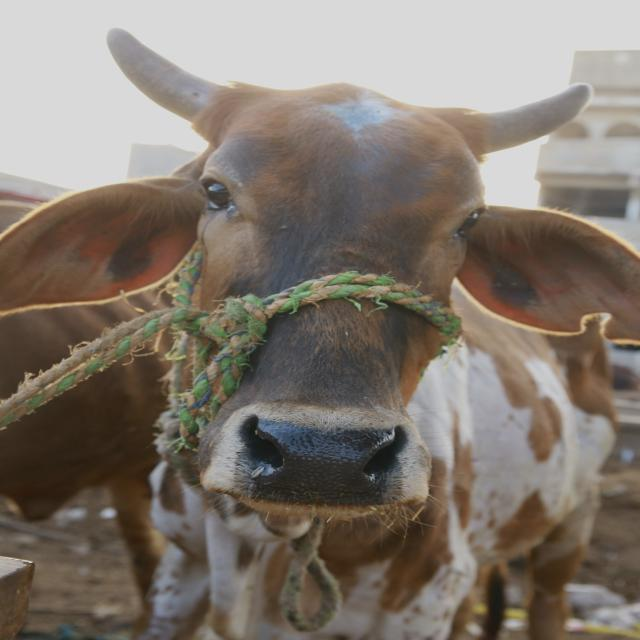muzzles: (228, 408, 404, 512)
